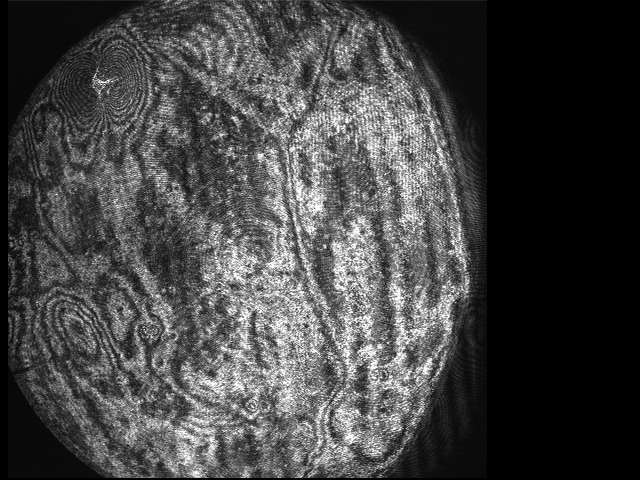plume: (63, 45, 144, 128)
